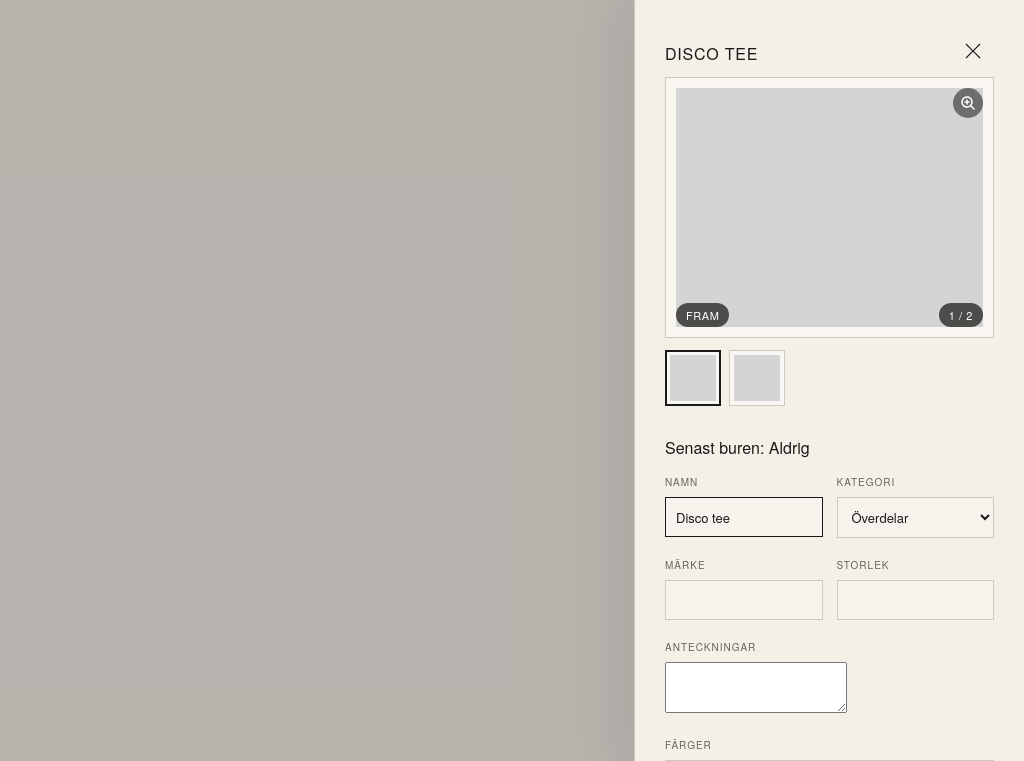
Test: ItemEditorDialog category creation › cancels creation and restores the previous category selection
Select "+ Lägg till kategori…" in the dropdown labelled "Kategori" at (915, 518), box [836,497,994,538]
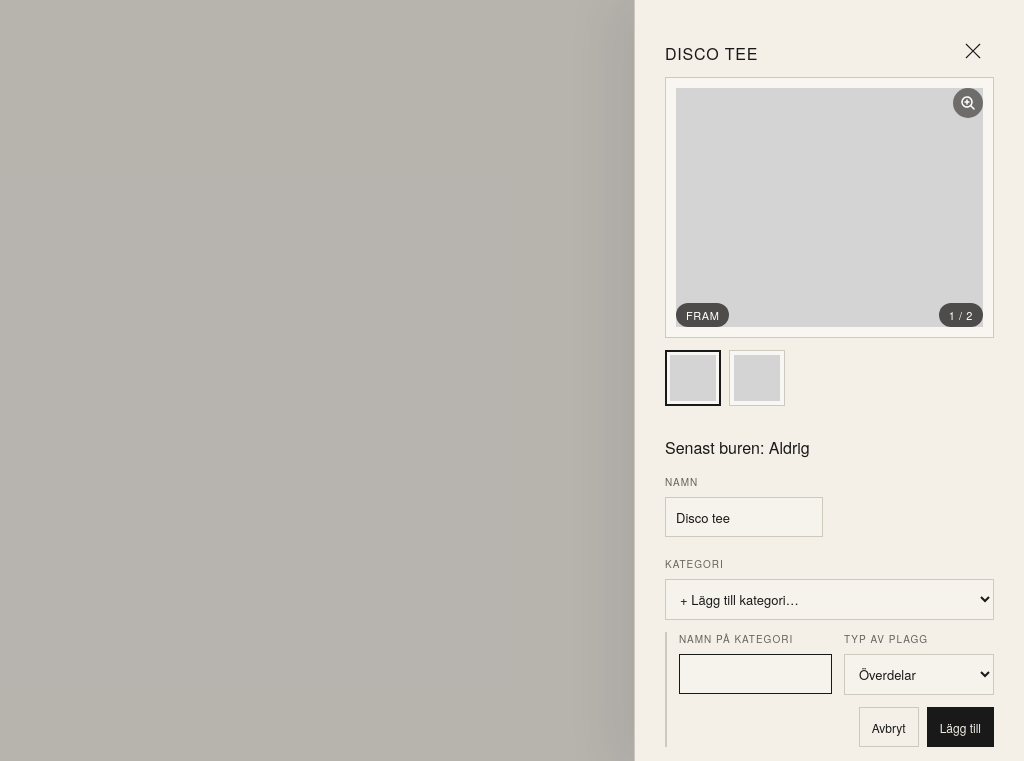
Click the button "Avbryt" at (889, 727), box [859,707,919,747]
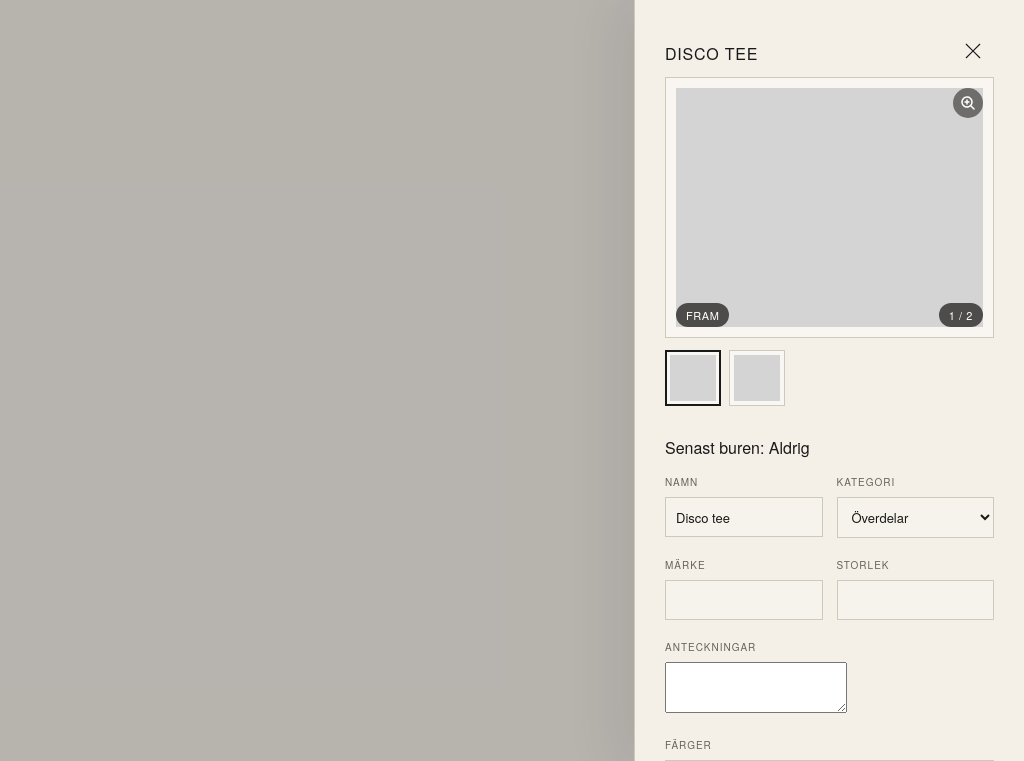
Result: the text "Namn på kategori" is gone
